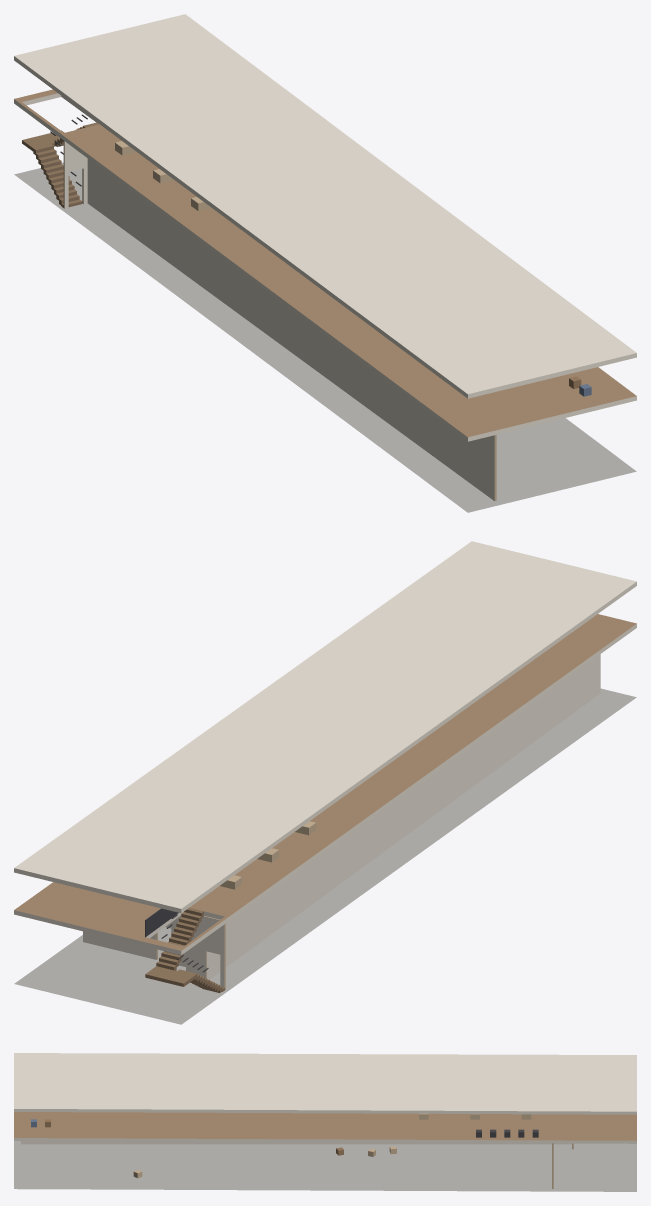
The model's file is interior.glb.
The picture shows the model from 3 angles, top to bottom: view 1: azimuth 30°, elevation 25°; view 2: azimuth 150°, elevation 25°; view 3: azimuth 270°, elevation 25°; orthographic projection. The views are drawn at different scales.
Visible parts, largest first — view 1: slabs, partitions, stair, coarse-s1; view 2: slabs, partitions, stair; view 3: slabs, partitions, coarse-s1, coarse-s0.
Part boxes in pixels (left/top/right/bottom): slabs: left=14, top=14, right=636, bottom=512; partitions: left=63, top=141, right=496, bottom=501; stair: left=22, top=114, right=99, bottom=207; coarse-s1: left=115, top=141, right=591, bottom=396; slabs: left=14, top=541, right=636, bottom=1024; partitions: left=83, top=654, right=600, bottom=989; stair: left=145, top=907, right=224, bottom=992; slabs: left=14, top=1053, right=636, bottom=1191; partitions: left=21, top=1141, right=573, bottom=1188; coarse-s1: left=31, top=1113, right=538, bottom=1137; coarse-s0: left=133, top=1146, right=396, bottom=1178.
Size of the model in its own units: 10.8 by 6.91 by 48.46.
